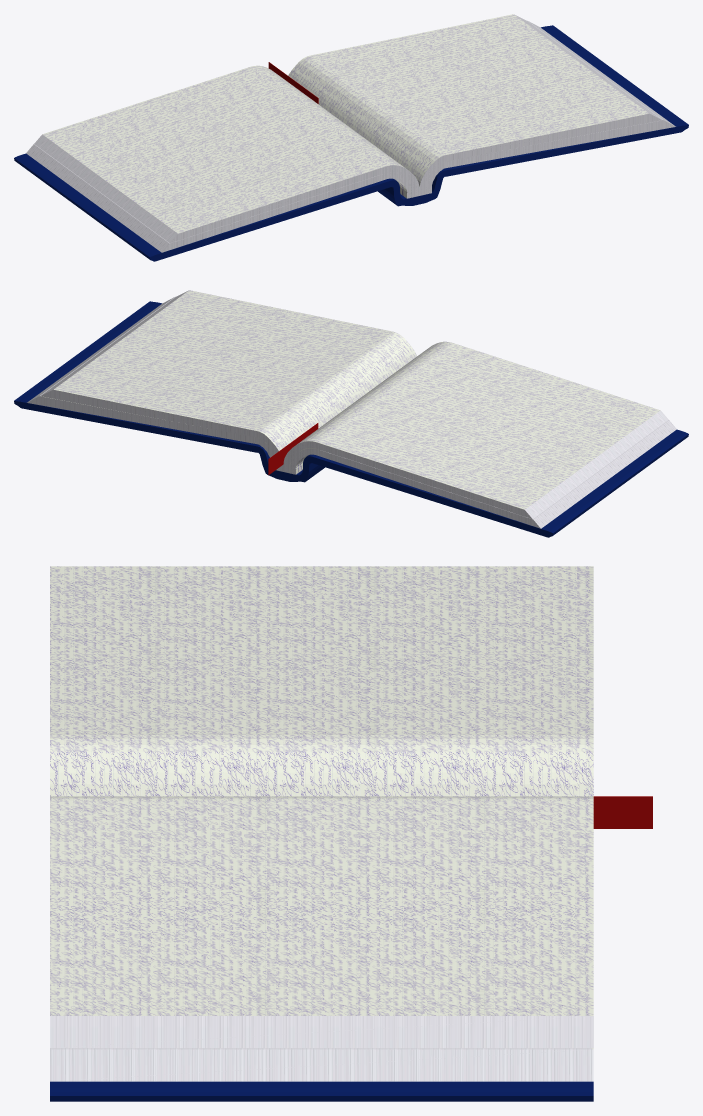
File: libro_abierto3.fbx
3 renders of one model, top to bottom at view 1: azimuth 30°, elevation 25°; view 2: azimuth 150°, elevation 25°; view 3: azimuth 270°, elevation 25°, orthographic. The views are drawn at different scales.
Visible parts, largest first — view 1: book2:Mesh; view 2: book2:Mesh; view 3: book2:Mesh.
Part boxes in pixels (box(x1,y1,x2,y2)): book2:Mesh: box(14, 14, 688, 261); book2:Mesh: box(14, 290, 688, 537); book2:Mesh: box(50, 566, 652, 1101).
Size of the model in its own units: 4.58 by 0.3766 by 2.22.
Materials: 4 (2 with a texture image).
